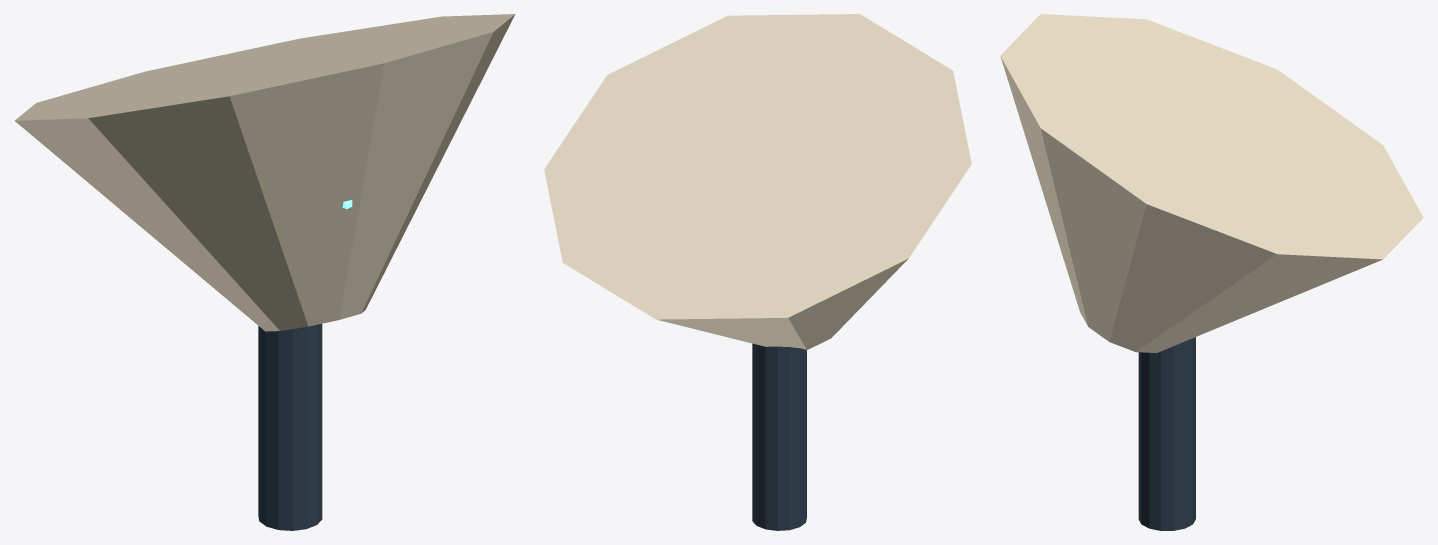
Rendered from AntennaDish.glb.
3 renders of one model, left to right at view 1: azimuth 30°, elevation 25°; view 2: azimuth 150°, elevation 25°; view 3: azimuth 270°, elevation 25°, orthographic. The views are drawn at different scales.
Parts seen in each view (by area): view 1: Ivory.001, Dark.042; view 2: Ivory.001, Dark.042; view 3: Ivory.001, Dark.042.
Part boxes in pixels (x1,y1,x2,y2): Ivory.001: [14, 14, 515, 331]; Dark.042: [258, 324, 322, 530]; Ivory.001: [544, 14, 971, 350]; Dark.042: [752, 343, 806, 530]; Ivory.001: [1000, 14, 1423, 352]; Dark.042: [1138, 337, 1195, 530].
Size of the model in its own units: 0.3043 by 0.356 by 0.2947.
